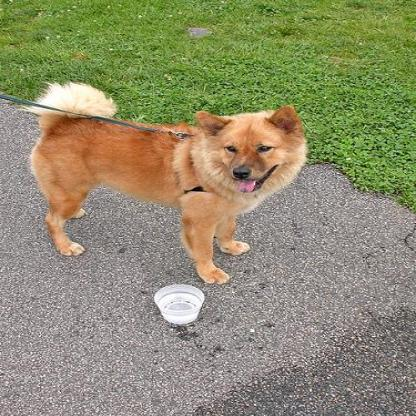chow: (17, 75, 305, 284)
